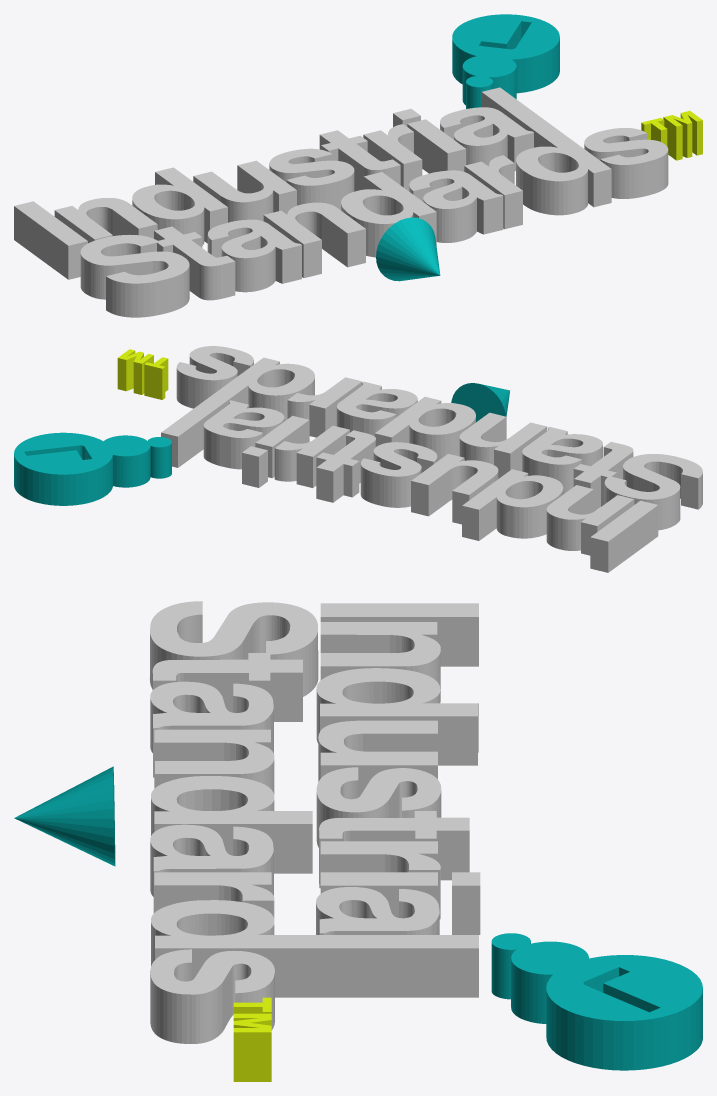
File: indstan.gltf
3 views of the same model, one above another, from view 1: azimuth 30°, elevation 25°; view 2: azimuth 150°, elevation 25°; view 3: azimuth 270°, elevation 25° (orthographic). The views are drawn at different scales.
Parts seen in each view (by area): view 1: Curve.021, Curve.016, Curve.009, Curve.011, Curve.014, Curve.012, Curve.020, Curve.002, Curve.013, Curve.003, Curve.008, Curve.004 (+9 smaller); view 2: Curve.021, Curve.016, Curve.002, Curve.009, Curve.013, Curve.003, Curve.004, Curve.001, Curve.008, Curve.011, Curve.012, Curve.020 (+9 smaller); view 3: Curve.021, Curve.016, Curve.020, Curve.009, Curve.013, Curve.002, Curve.003, Curve.012, Curve.001, Curve.004, Curve.011, Curve.014 (+9 smaller).
Boxes of the visible parts, x1,y1,x2,y2 form: Curve.021: (452, 14, 559, 108); Curve.016: (481, 87, 611, 215); Curve.009: (80, 234, 189, 317); Curve.011: (207, 219, 301, 292); Curve.014: (409, 170, 503, 242); Curve.012: (263, 202, 365, 277); Curve.020: (584, 128, 668, 198); Curve.002: (132, 167, 227, 245); Curve.013: (341, 172, 436, 257); Curve.003: (193, 160, 296, 222); Curve.008: (440, 107, 533, 171); Curve.004: (269, 148, 354, 210); Curve.021: (14, 432, 171, 505); Curve.016: (161, 357, 314, 467); Curve.002: (462, 469, 563, 540); Curve.009: (604, 454, 702, 530); Curve.013: (374, 396, 475, 461); Curve.003: (411, 453, 498, 524); Curve.004: (360, 442, 437, 507); Curve.001: (546, 485, 634, 555); Curve.008: (203, 400, 284, 469); Curve.011: (522, 426, 602, 494); Curve.012: (459, 412, 547, 478); Curve.020: (176, 346, 253, 408); Curve.021: (491, 933, 702, 1070); Curve.016: (151, 900, 478, 997); Curve.020: (150, 949, 274, 1043); Curve.009: (149, 601, 318, 696); Curve.013: (151, 776, 312, 873); Curve.002: (316, 668, 478, 765); Curve.003: (318, 720, 437, 797); Curve.012: (154, 729, 274, 794); Curve.001: (320, 622, 440, 701); Curve.004: (316, 767, 441, 847); Curve.011: (150, 681, 273, 777); Curve.014: (150, 824, 273, 913).
Size of the model in its own units: 12.12 by 1.19 by 8.18.
